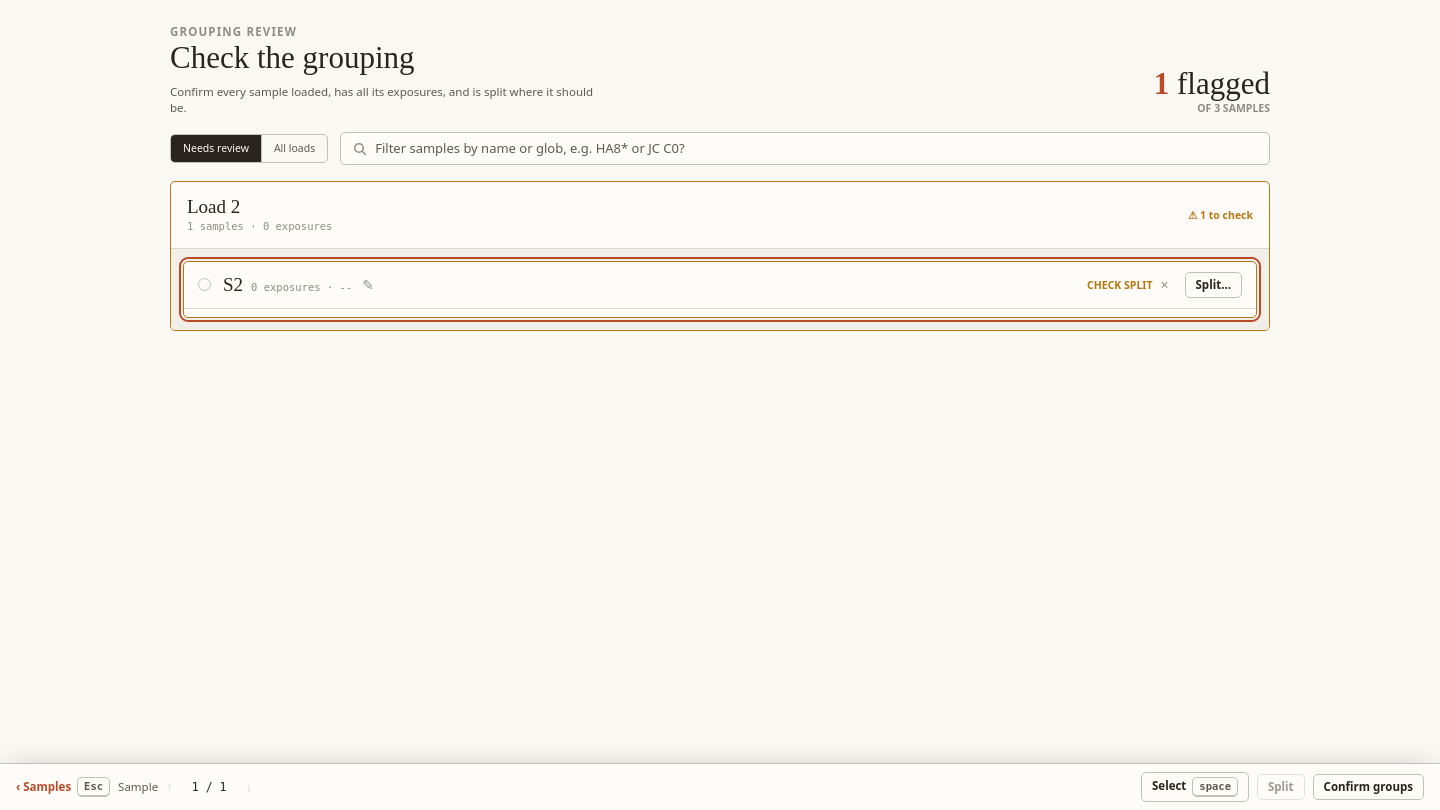
Scenario: GroupingReviewPage interaction › selection order is preserved (first selected = survivor)
Click the button "All loads": click(295, 149) x1=262 y1=135 x2=327 y2=162
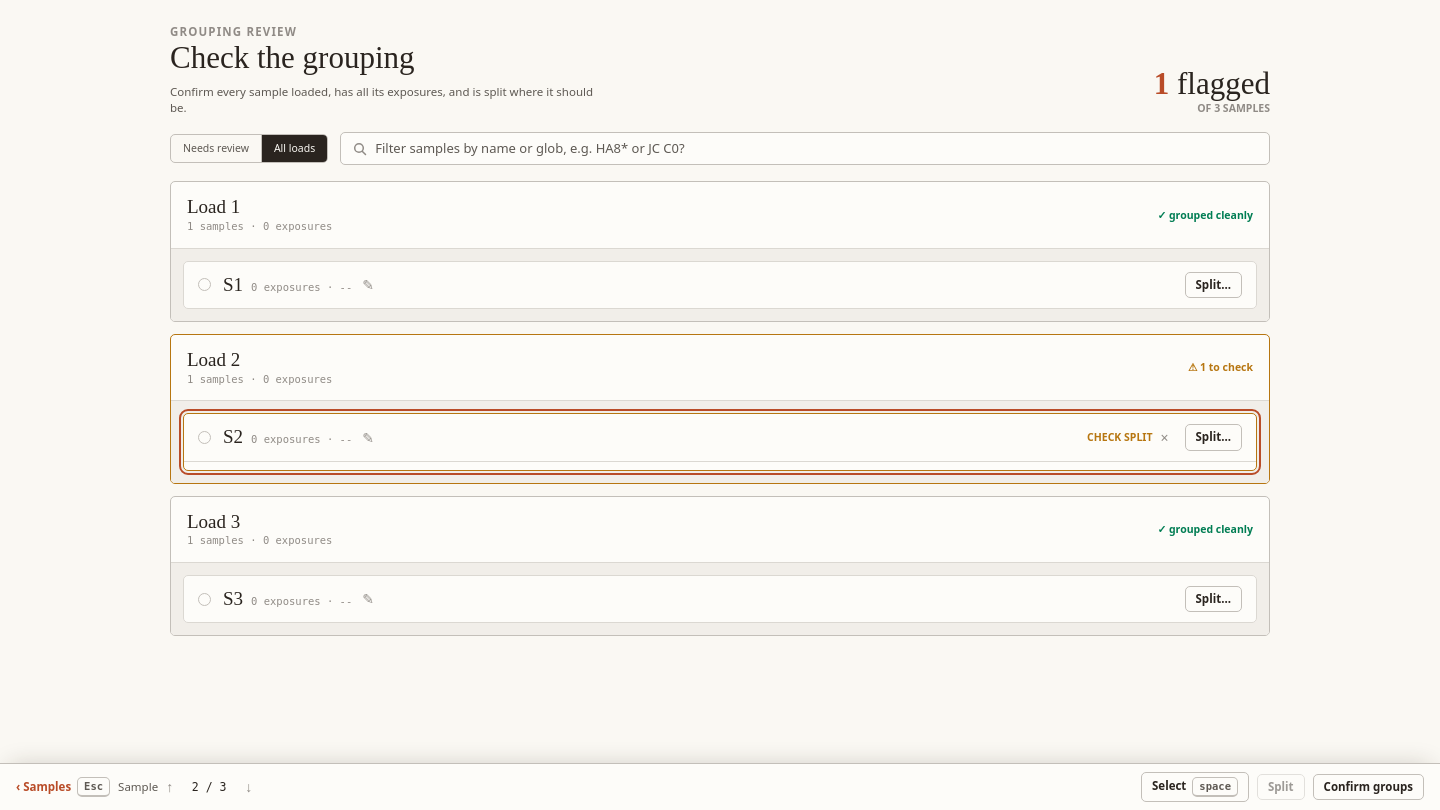
Press Space
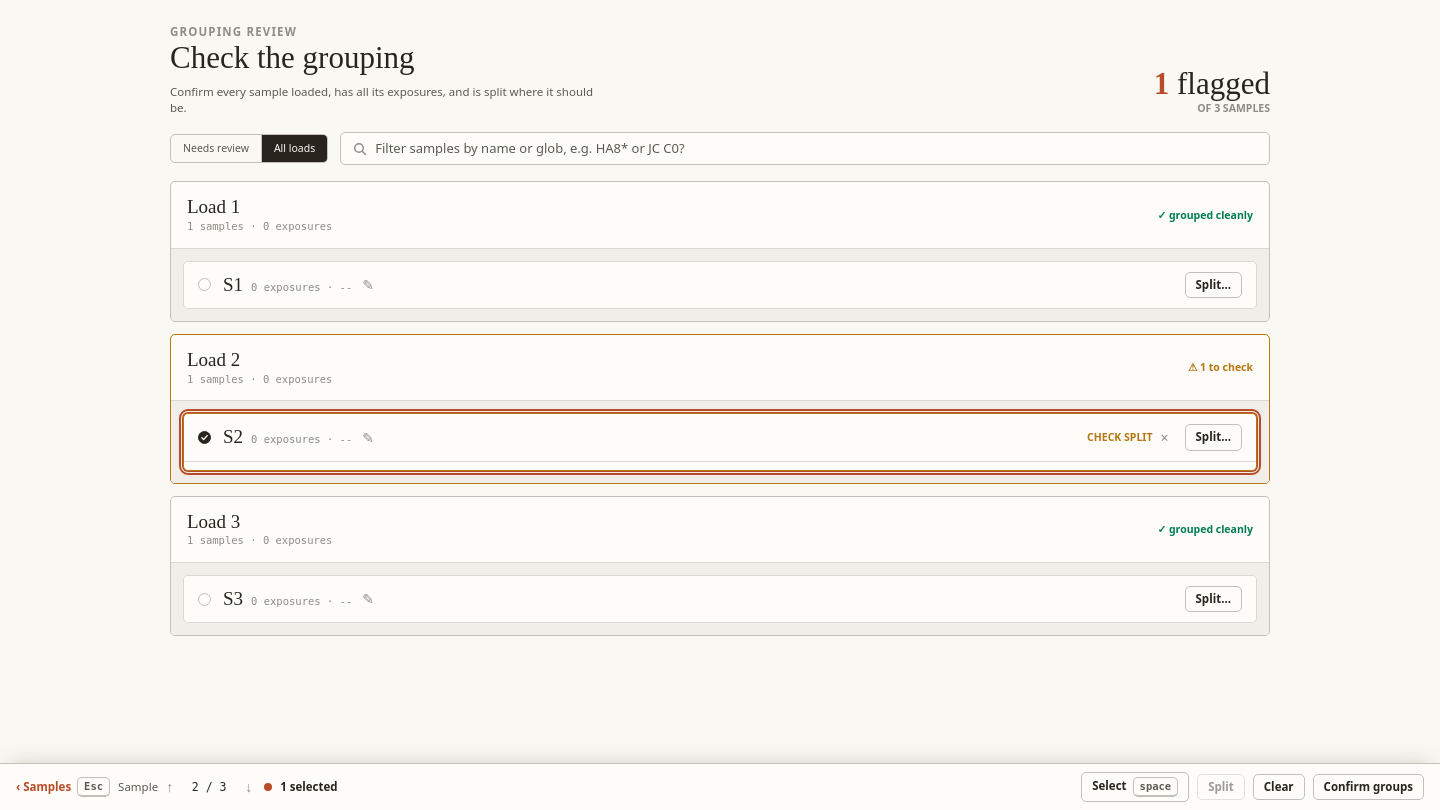
Press ArrowUp in the element that starts with "Load", box x1=170 y1=181 x2=1270 y2=636
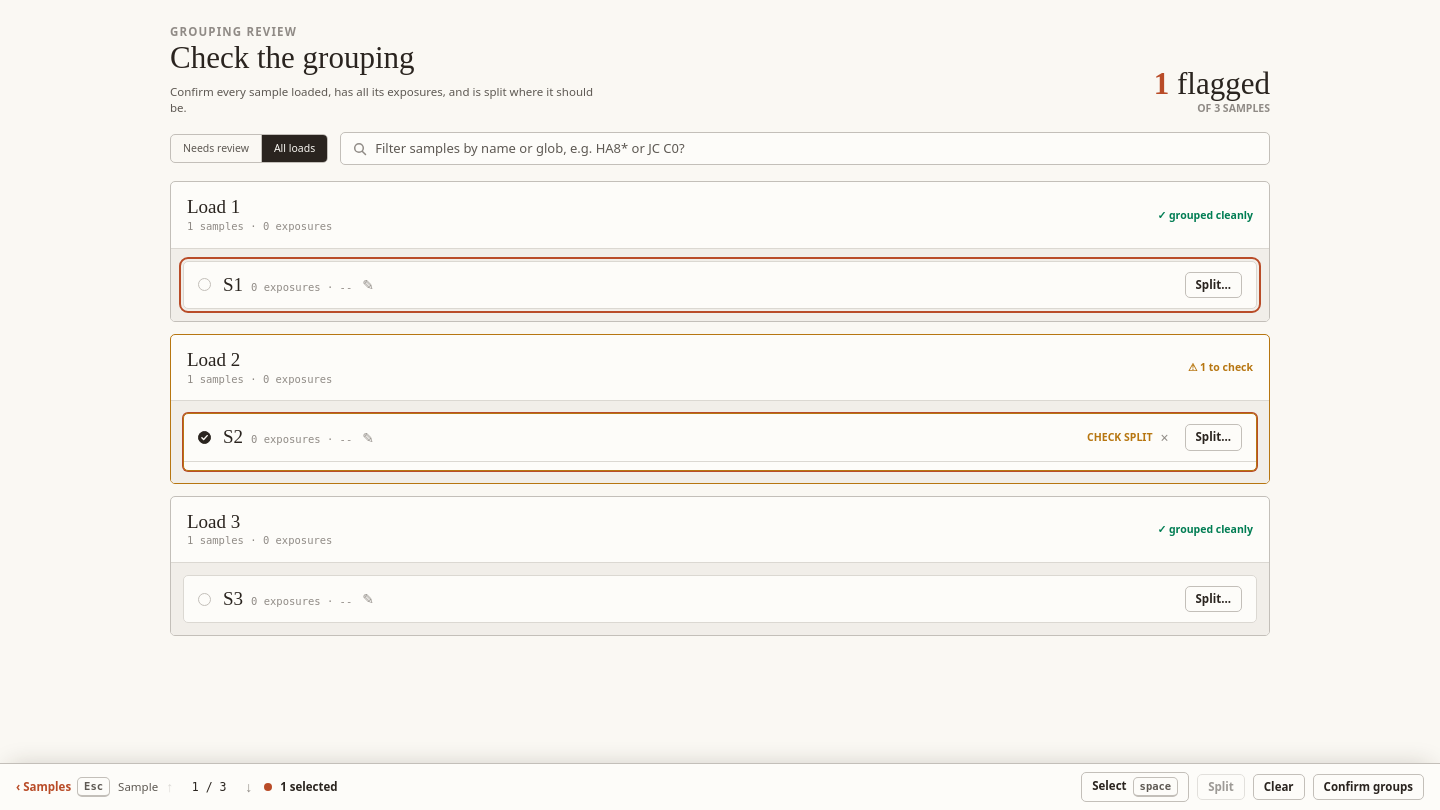
Press Space
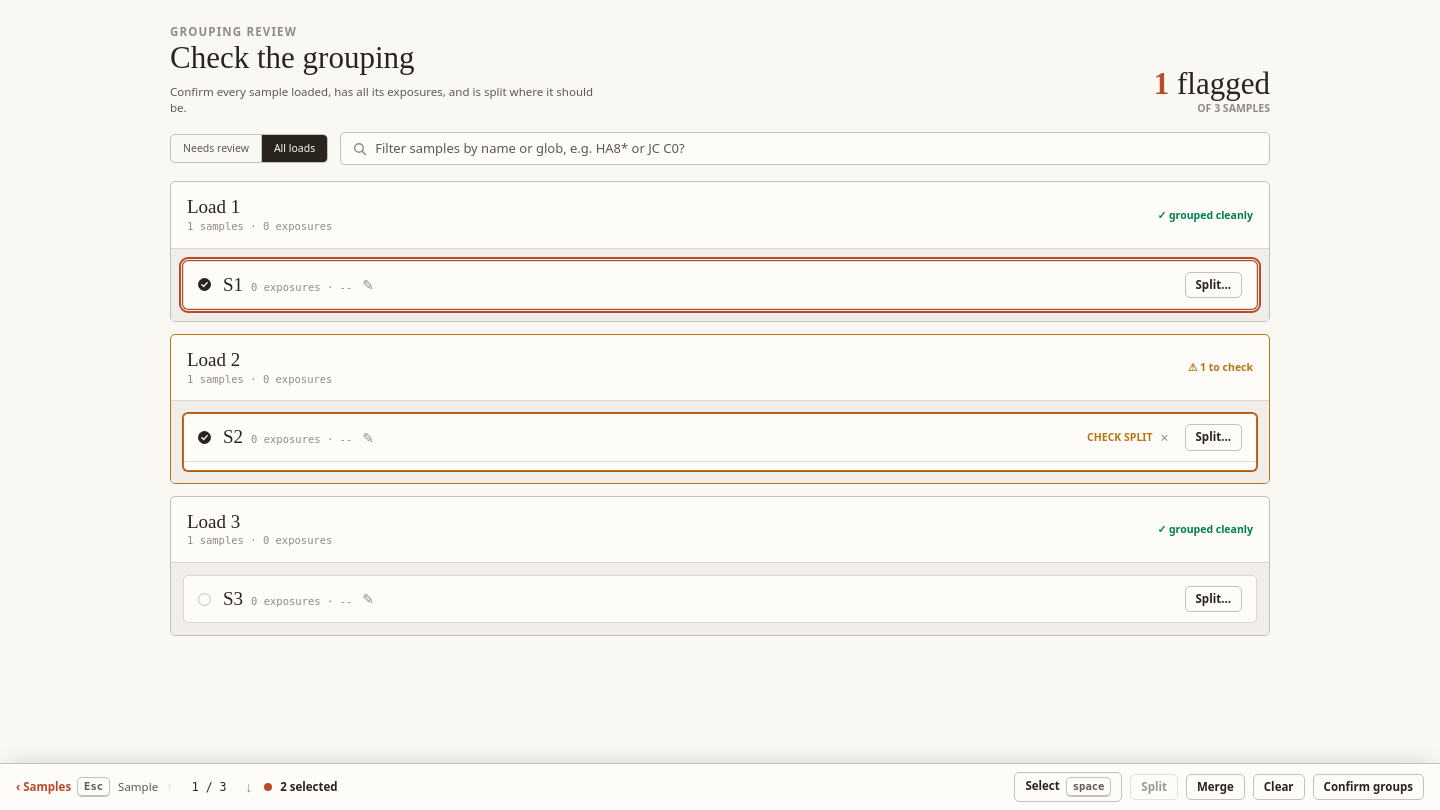
Expected: the button with test id "dock-action-merge" is enabled
Click the button with test id "dock-action-merge": click(1215, 787) x1=1186 y1=774 x2=1245 y2=800
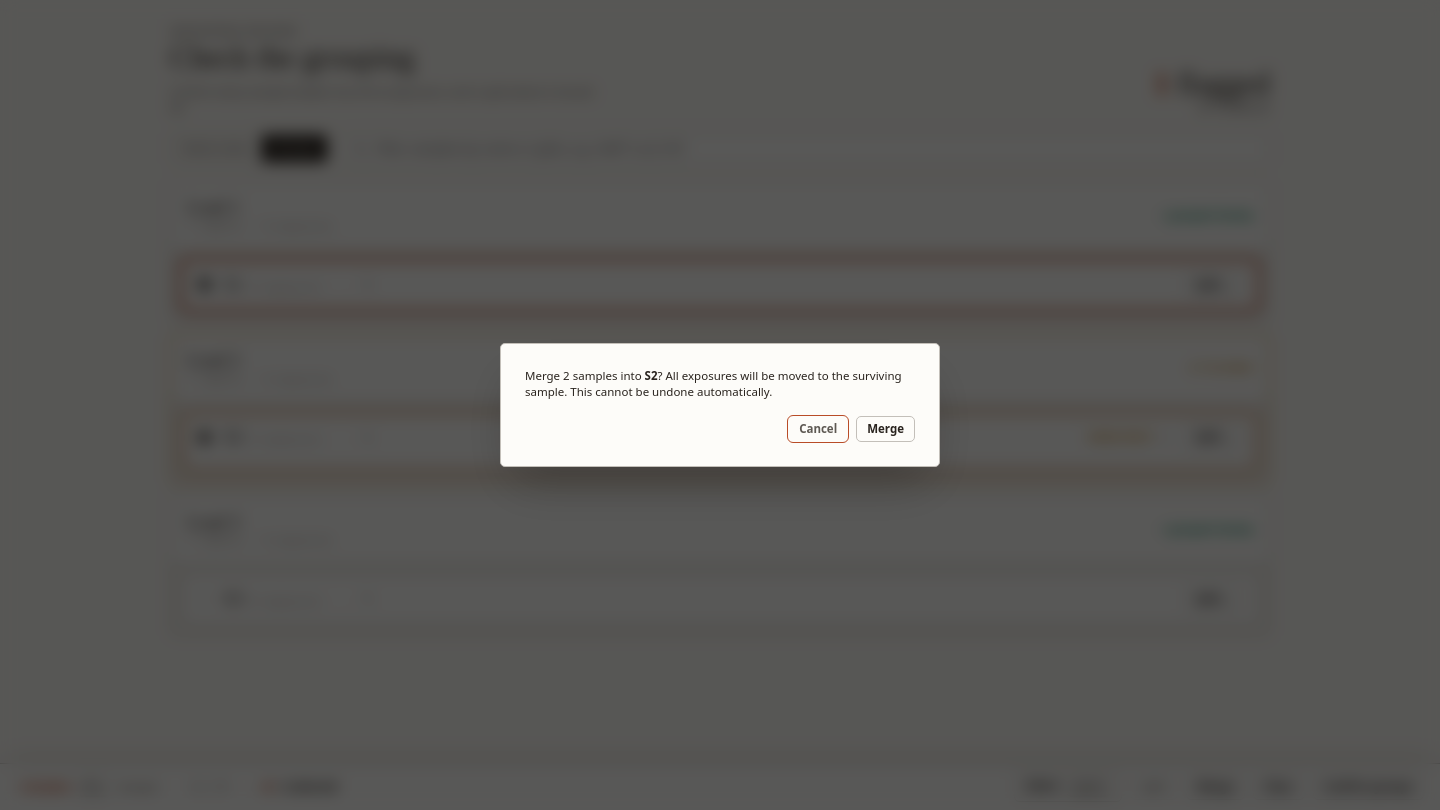
Expected: the dialog with test id "bulk-merge-confirm" is shown, x1=500 y1=343 x2=940 y2=467
Expected: the text "S2" is shown, x1=645 y1=368 x2=658 y2=383
